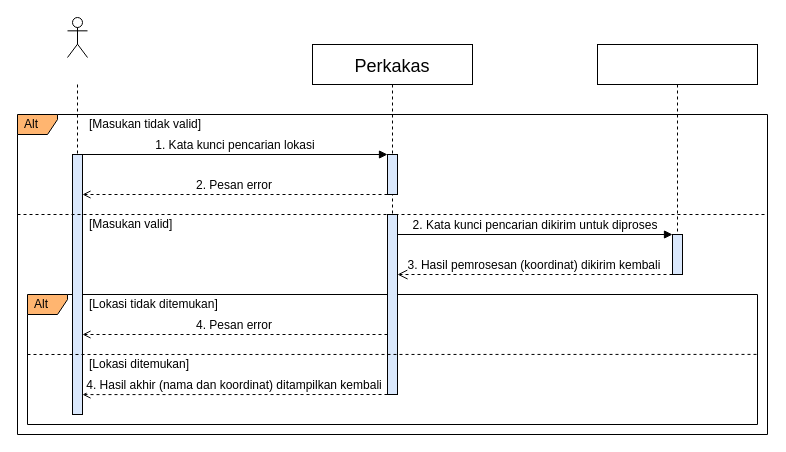
The diagram is 786 pixels wide and 452 high, and some of its shapes have lost their labels. Each missing label, with the box of its shape:
API KIRI: (596, 44, 758, 274)
Pengguna: (66, 16, 88, 58)
